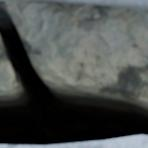brick: (0, 136, 147, 147), (34, 0, 147, 9)
crack: (0, 0, 147, 146)
